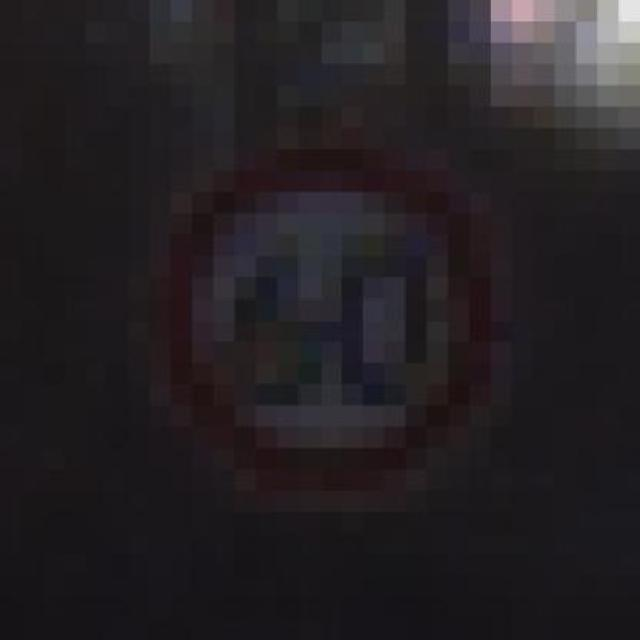forb_speed_over_60: (154, 154, 488, 492)
